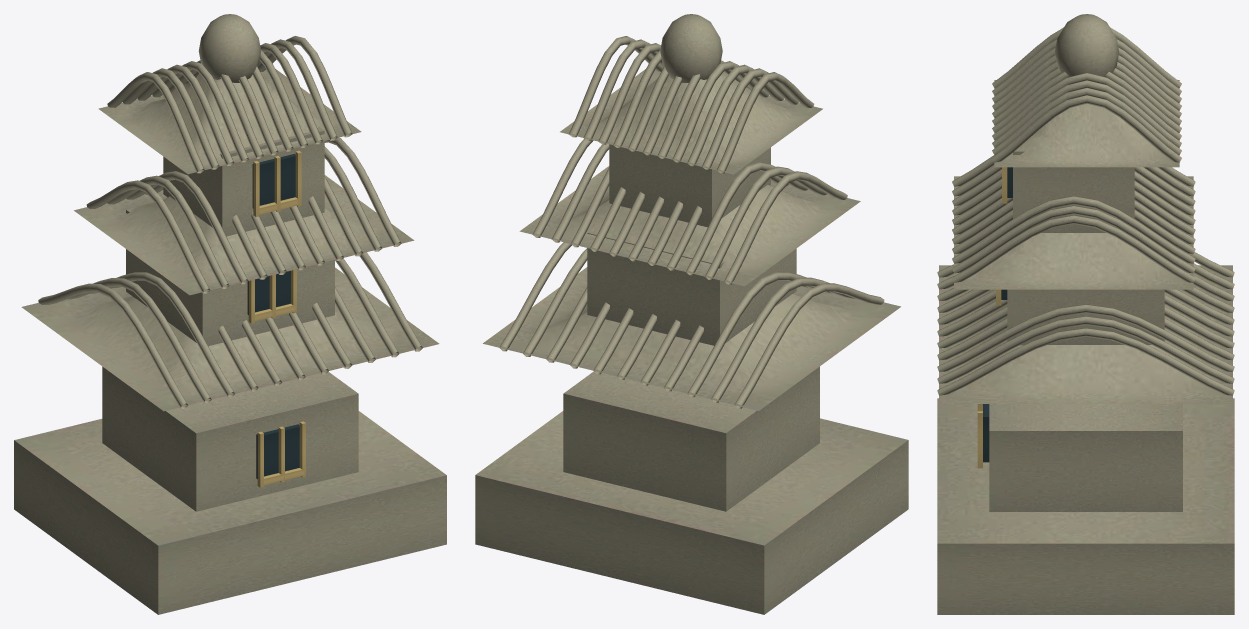
File: stone_pagoda.glb
3 renders of one model, left to right at view 1: azimuth 30°, elevation 25°; view 2: azimuth 150°, elevation 25°; view 3: azimuth 270°, elevation 25°, orthographic. The views are drawn at different scales.
Visible parts, largest first — view 1: static_ornament; view 2: static_ornament; view 3: static_ornament.
Boxes of the visible parts, x1,y1,x2,y2 form: static_ornament: (14, 14, 446, 614); static_ornament: (475, 14, 908, 614); static_ornament: (937, 14, 1234, 614).
Size of the model in its own units: 0.9598 by 1.62 by 0.8311.
Materials: 1 (1 with a texture image).
